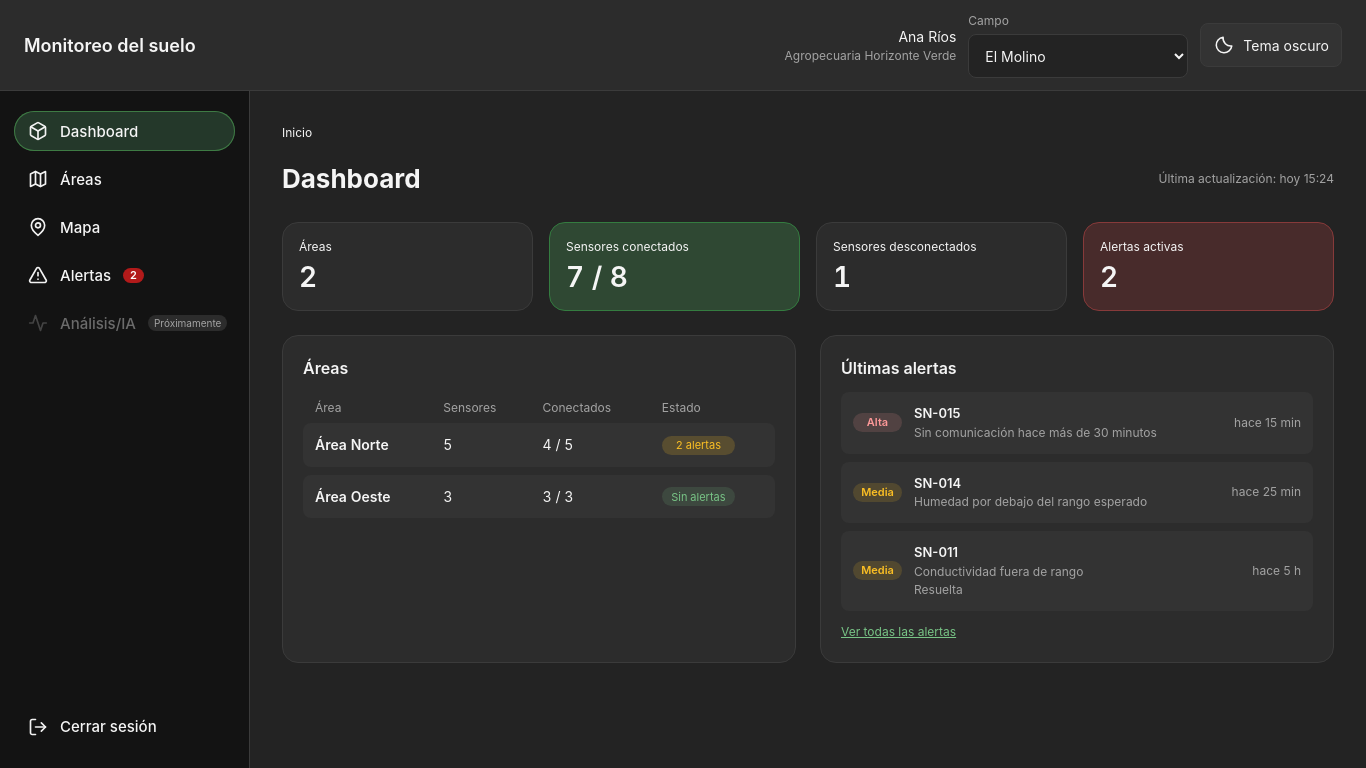
Test: Dashboard y Áreas con el selector real › actualiza el Dashboard al cambiar de campo y no inventa datos en el vacío
Expected: the list item "Sensores conectados" shows "7 / 8", [566,260,628,294]
Select "La Esperanza" in the dropdown labelled "Campo": (1078, 56) [968,34,1188,78]
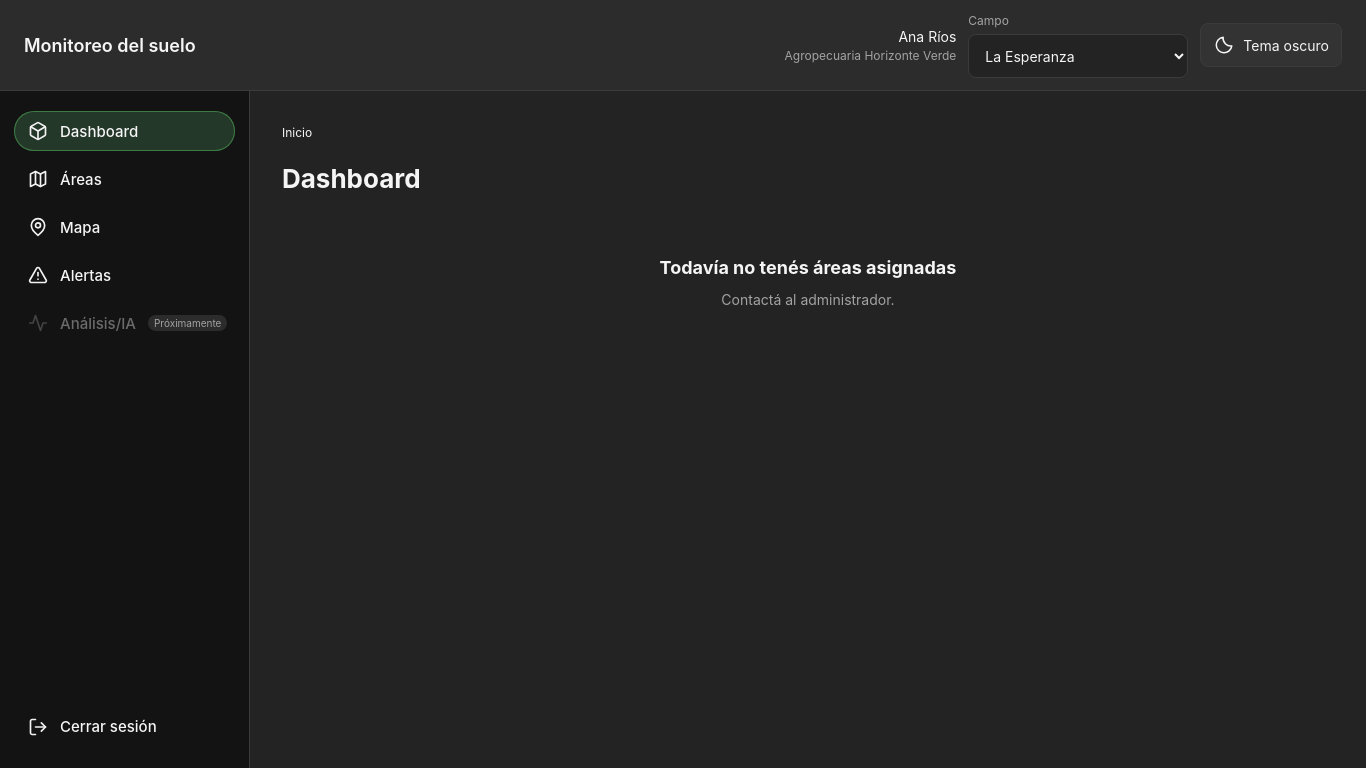
Expected: the heading "Todavía no tenés áreas asignadas" is shown, [660,254,956,281]
Expected: the text "Última actualización:" is gone
Select "El Molino" in the dropdown labelled "Campo": (1078, 56) [968,34,1188,78]
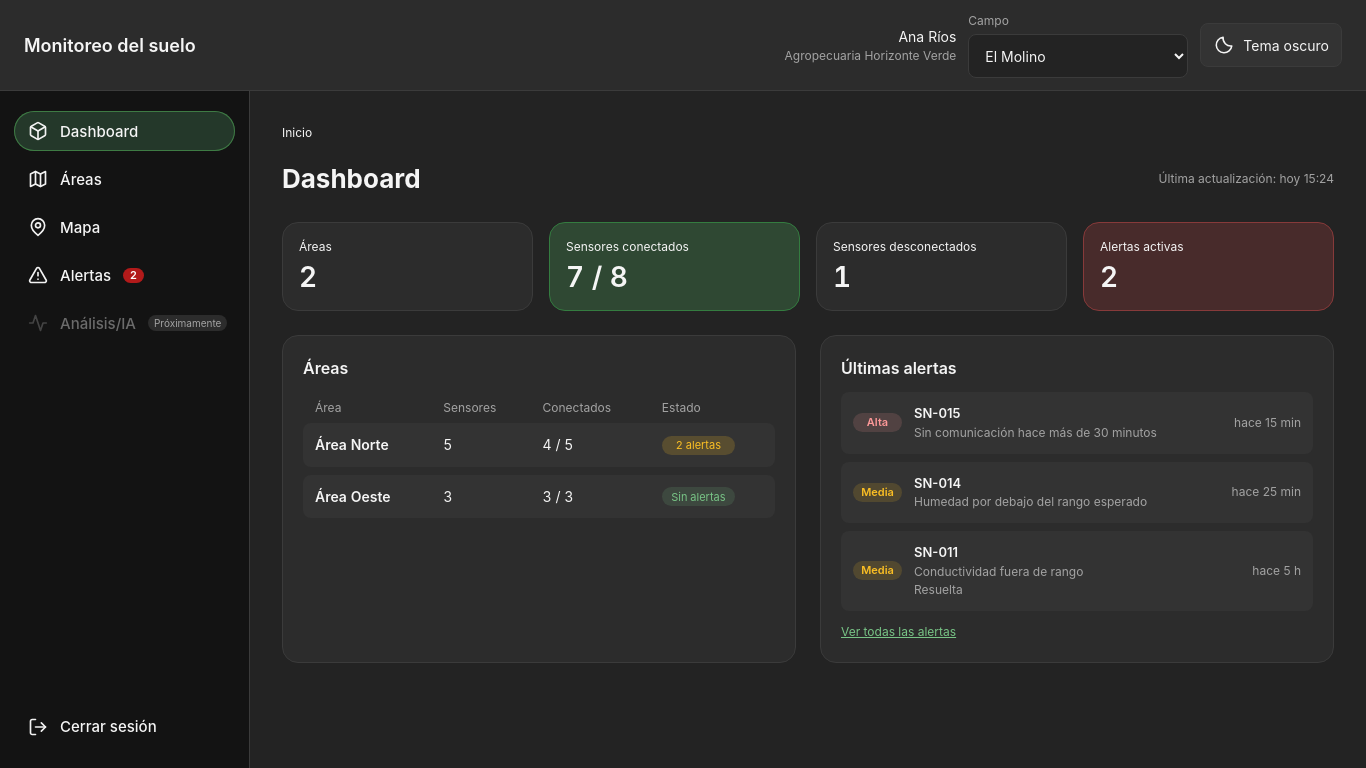
Expected: the list item "Alertas activas" shows "2", [1100,260,1118,294]
